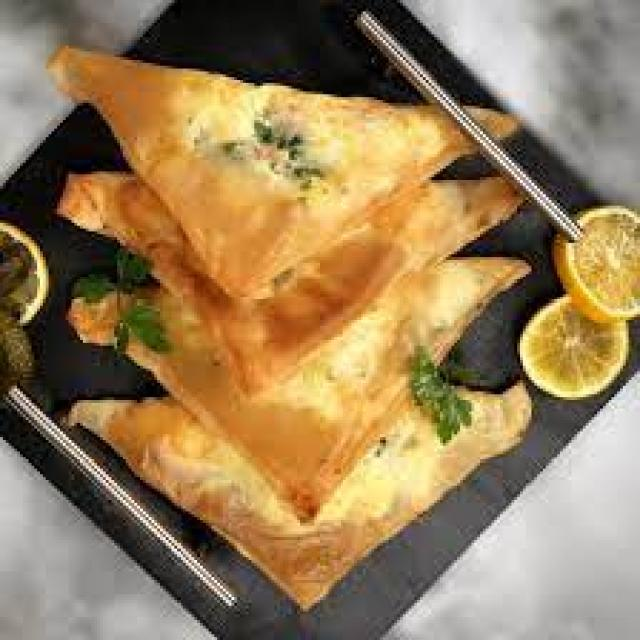brik: (42, 49, 484, 262), (79, 396, 429, 597), (75, 189, 458, 367)
